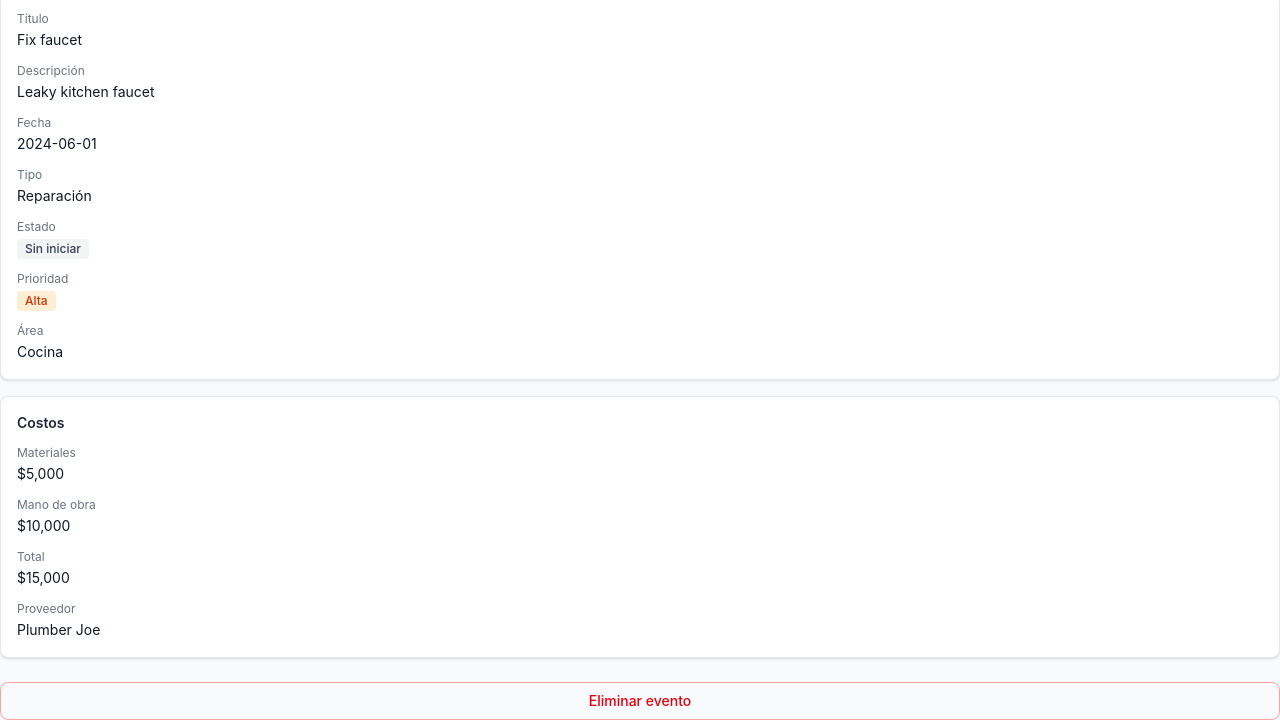
Test case: DetalleEventoPage › should hide confirmation when cancel delete is clicked
Click the button "Eliminar evento": x=640, y=701 [0,682,1279,719]
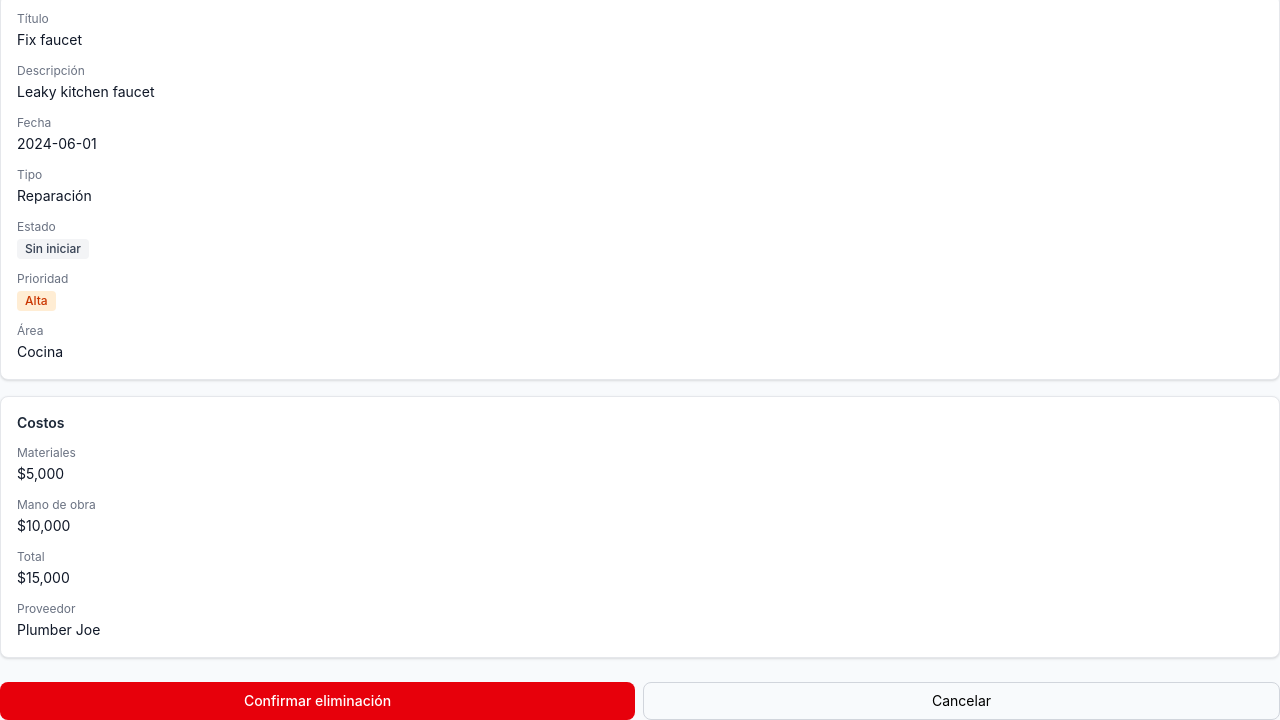
Expected: the button "Confirmar eliminación" is shown, [0,682,635,719]
Click the button "Cancelar": x=962, y=701 [643,682,1279,719]
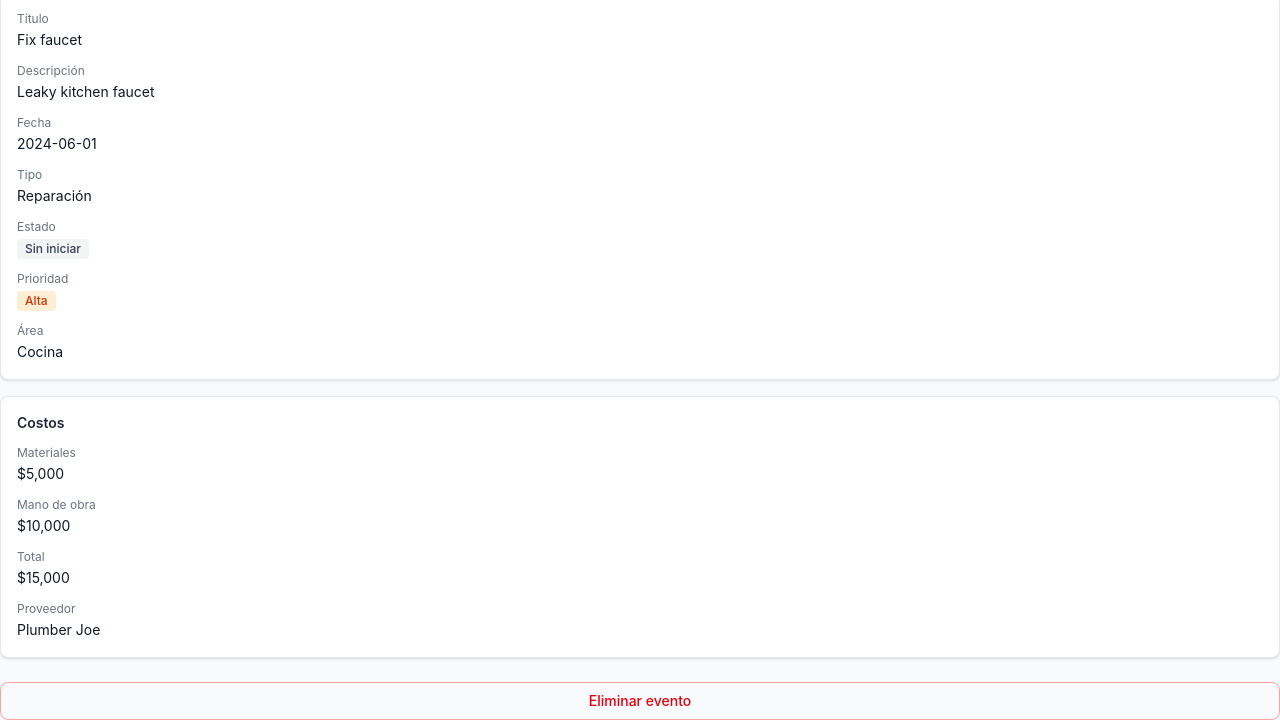
Expected: the button "Confirmar eliminación" is gone
Expected: the button "Eliminar evento" is shown, [0,682,1279,719]
